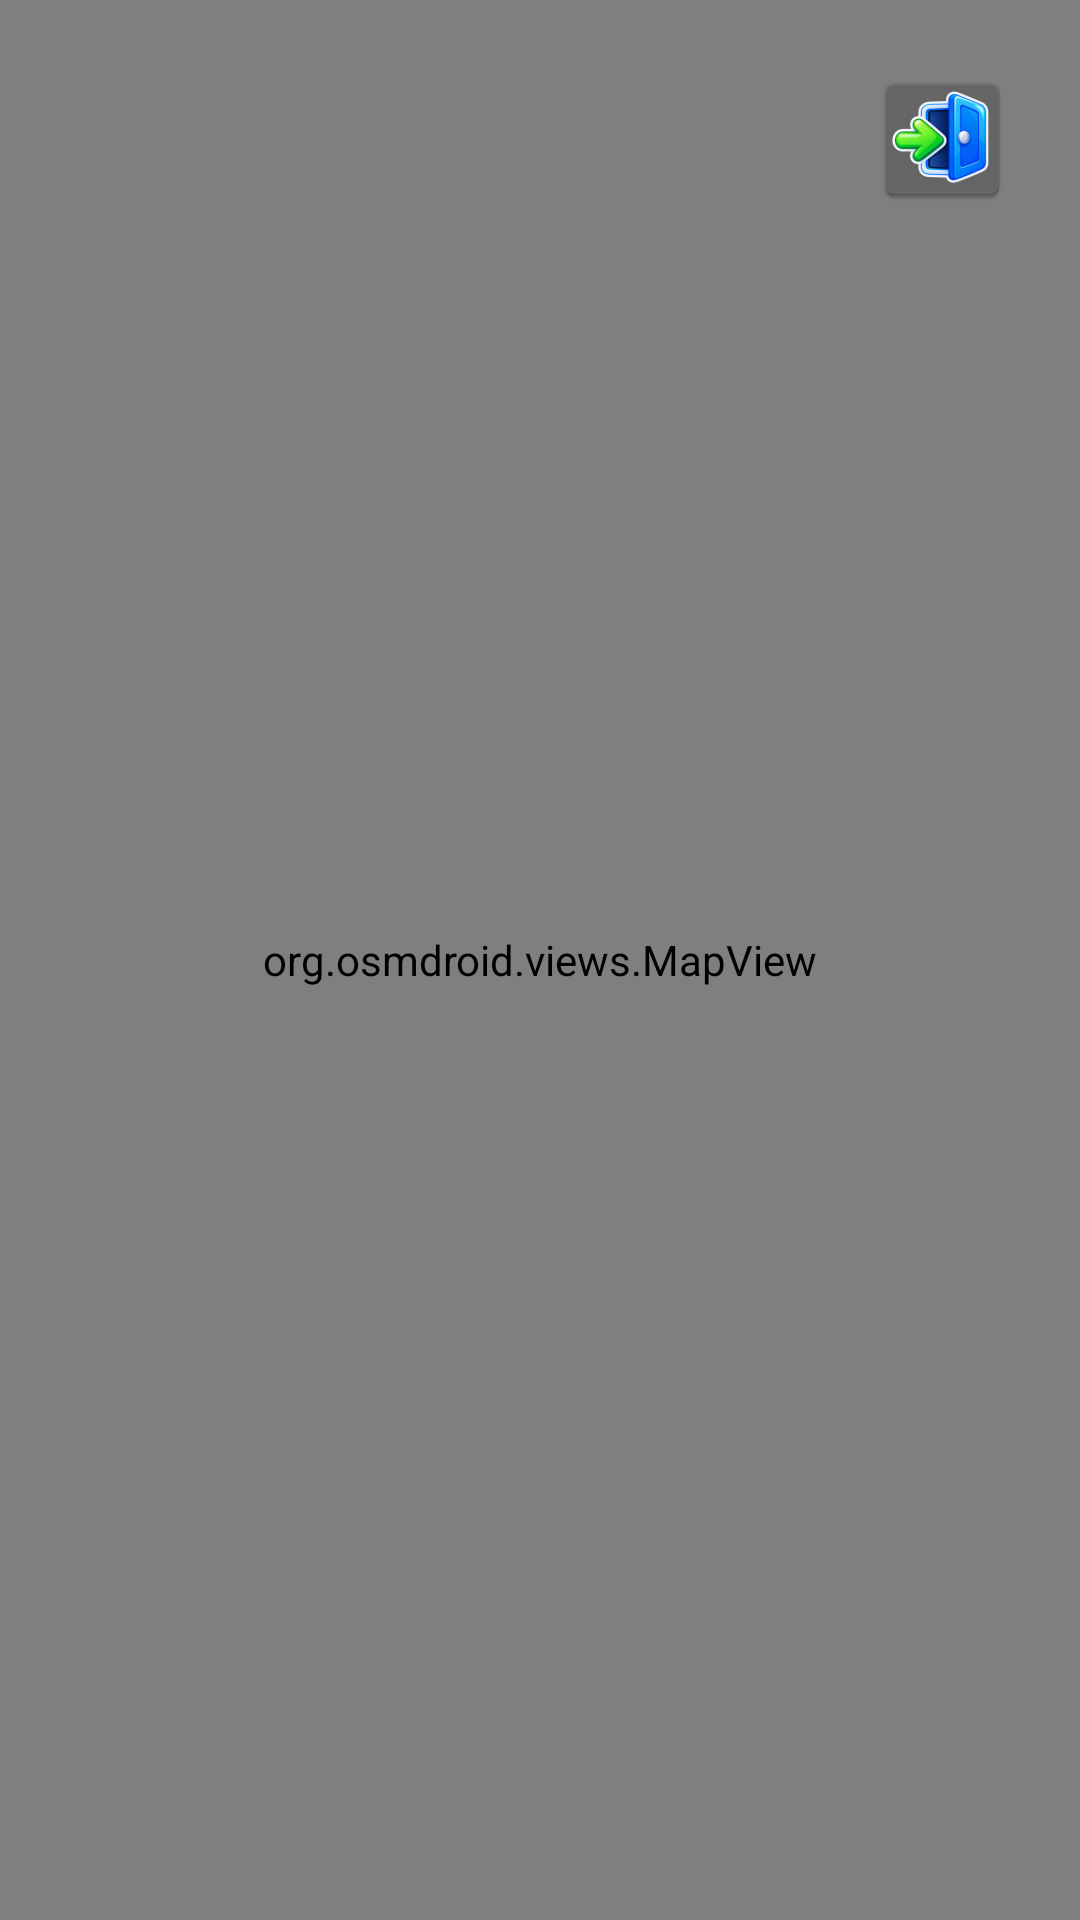

Screen size 1080×1920. Icon name, then its center in pixels as [x,y]:
Login: [942,141]
